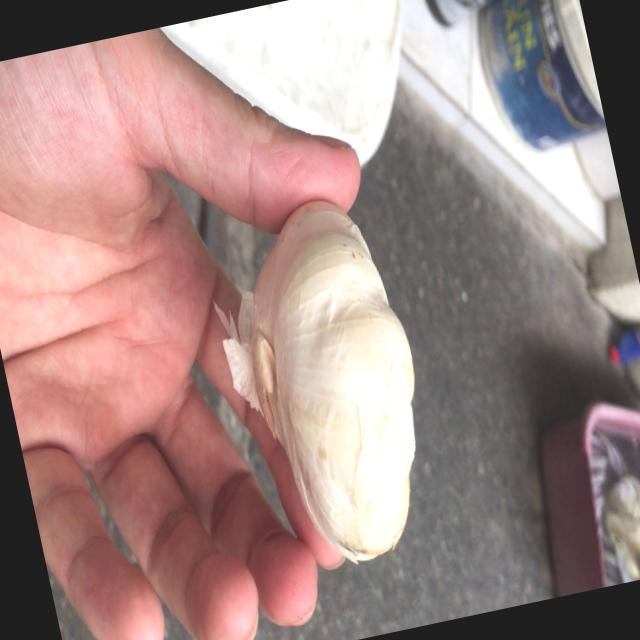bawang: (208, 182, 456, 584)
